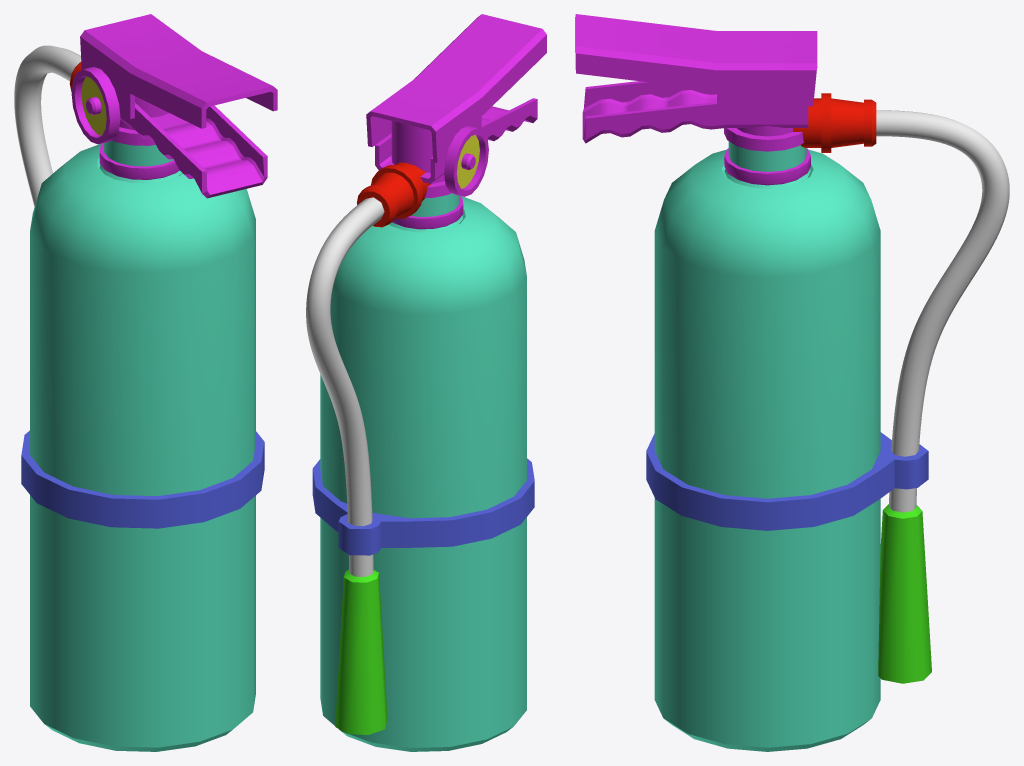
The model's file is M_Extinguisher.fbx.
The picture shows the model from 3 angles, left to right: view 1: azimuth 30°, elevation 25°; view 2: azimuth 150°, elevation 25°; view 3: azimuth 270°, elevation 25°; orthographic projection. The views are drawn at different scales.
Visible parts, largest first — view 1: NurbsPath; view 2: NurbsPath; view 3: NurbsPath.
Boxes of the visible parts, x1=… form: NurbsPath: x1=14, y1=14, x2=277, y2=751; NurbsPath: x1=306, y1=14, x2=546, y2=751; NurbsPath: x1=575, y1=14, x2=1009, y2=751.
Bounding box in the file's own units: 29.97 × 92.34 × 53.65.
